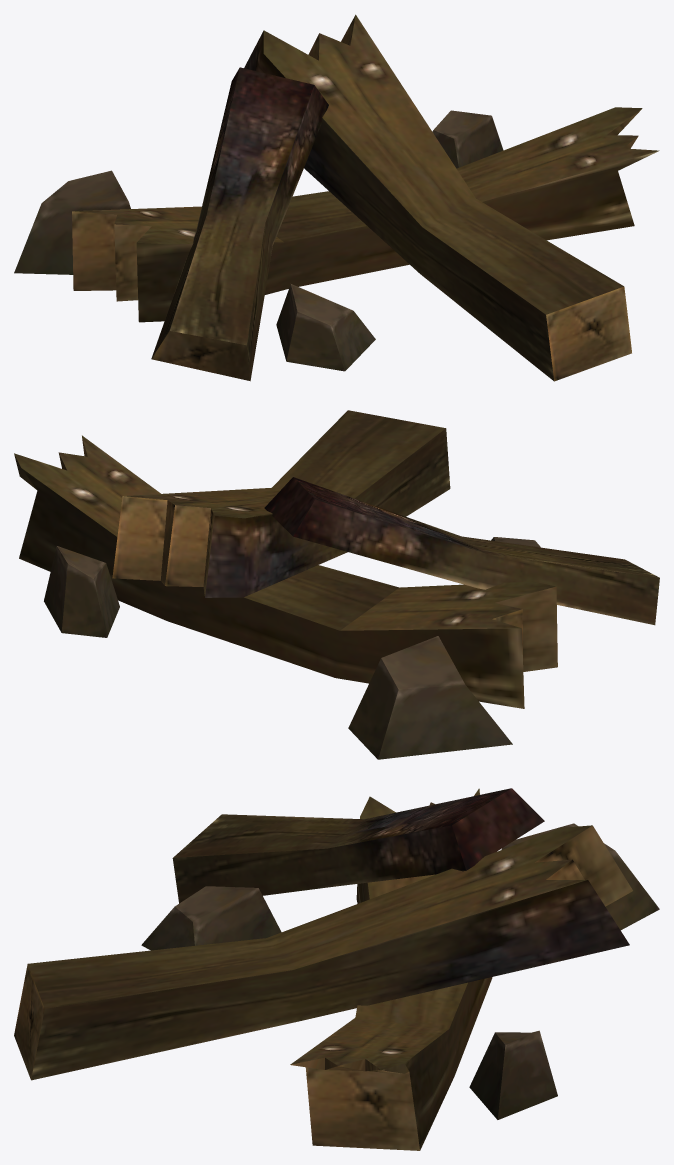
Rendered from BD_BrickWreckage01.FBX.
3 renders of one model, top to bottom at view 1: azimuth 30°, elevation 25°; view 2: azimuth 150°, elevation 25°; view 3: azimuth 270°, elevation 25°, orthographic. The views are drawn at different scales.
Visible parts, largest first — view 1: BD_BrickWreckage01; view 2: BD_BrickWreckage01; view 3: BD_BrickWreckage01.
Boxes of the visible parts, x1,y1,x2,y2 form: BD_BrickWreckage01: (14, 14, 659, 381); BD_BrickWreckage01: (14, 410, 659, 759); BD_BrickWreckage01: (14, 788, 659, 1150).
Bounding box in the file's own units: 391 × 119 × 353.
